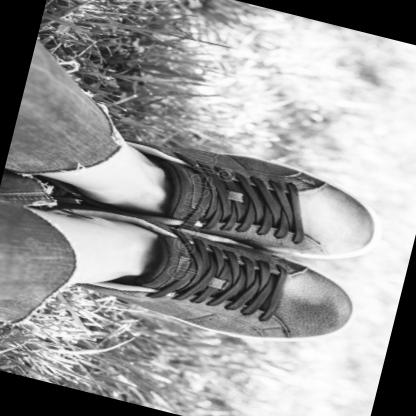ankle: (102, 220, 109, 225), (106, 199, 113, 204)
heel: (58, 183, 66, 189), (53, 204, 59, 209)
left_foot: (29, 199, 362, 363)
pinky: (292, 334, 301, 341), (333, 190, 341, 196)
right_foot: (41, 110, 392, 274)
toe: (339, 251, 348, 259), (324, 283, 331, 288)
